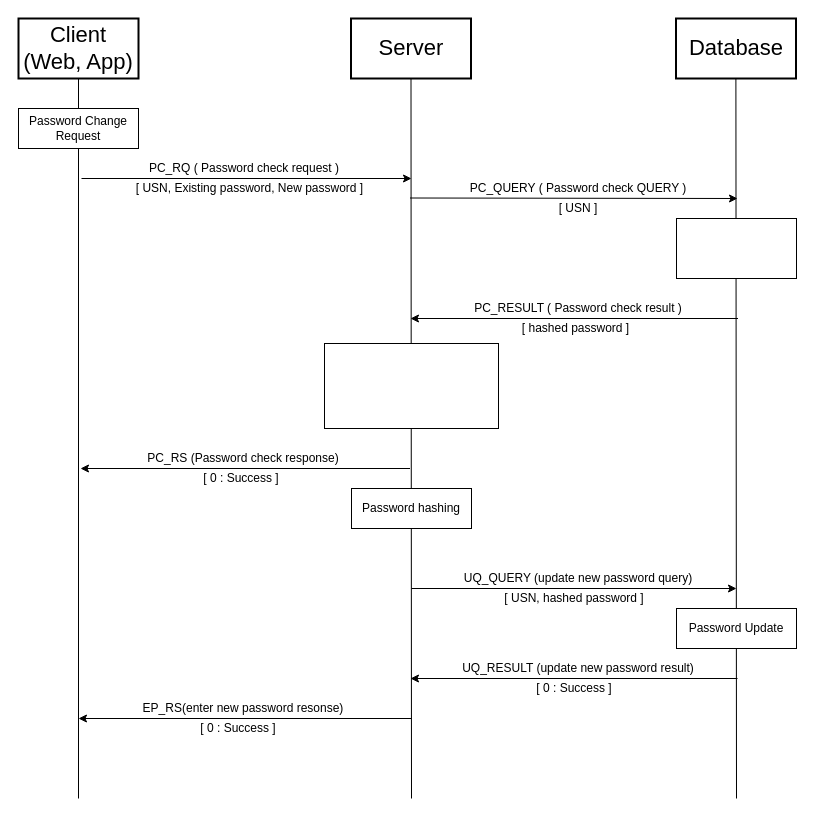
Some shapes in this 814 by 817 pixel diagram are drawn without their labels. Each missing label, with the box of its shape:
Select the password from the "user" table: (676, 218, 796, 278)
Verify that the password entered by the user matches the database password: (324, 342, 498, 428)
